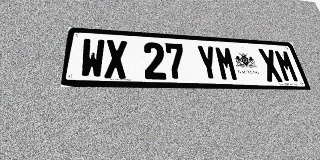2: (143, 42, 166, 80)
7: (164, 43, 187, 80)
M: (273, 49, 300, 82), (214, 46, 239, 81)
W: (79, 38, 105, 78)
X: (104, 40, 127, 79), (257, 49, 284, 82)
Y: (196, 45, 221, 81)
